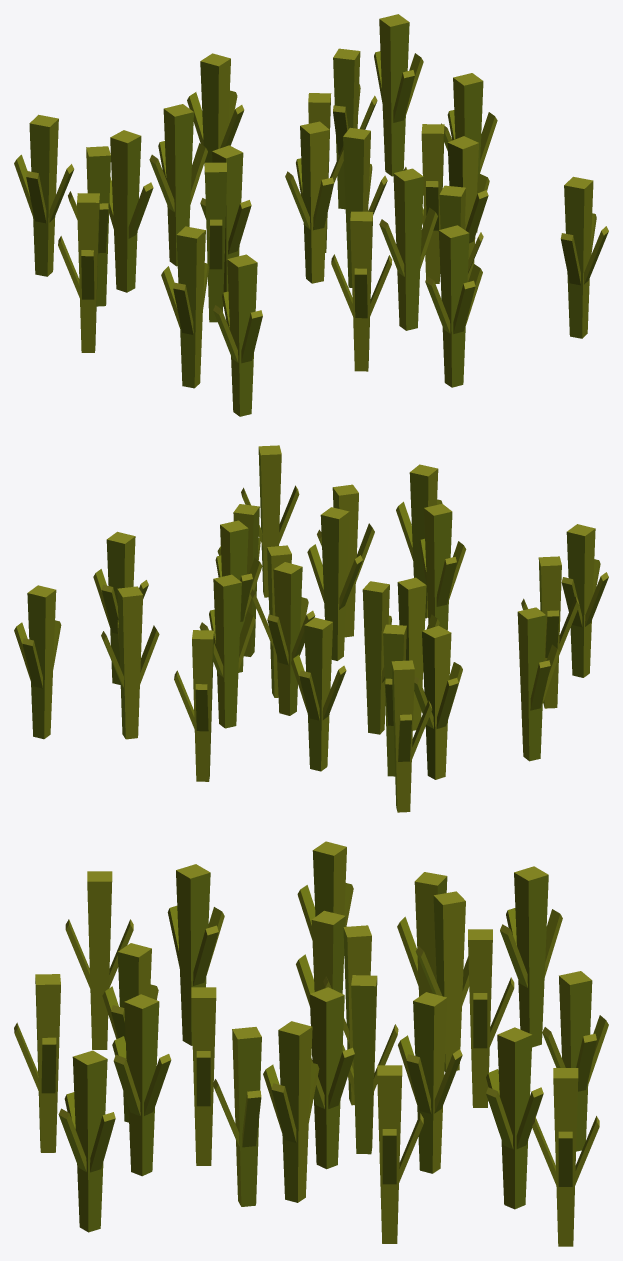
File: Crops_Corn.gltf
The picture shows the model from 3 angles, top to bottom: view 1: azimuth 30°, elevation 25°; view 2: azimuth 150°, elevation 25°; view 3: azimuth 270°, elevation 25°; orthographic projection. The views are drawn at different scales.
Visible parts, largest first — view 1: SF_Prop_Crops_Corn_01; view 2: SF_Prop_Crops_Corn_01; view 3: SF_Prop_Crops_Corn_01.
Part boxes in pixels (left/top/right/bottom): SF_Prop_Crops_Corn_01: left=14, top=14, right=608, bottom=416; SF_Prop_Crops_Corn_01: left=14, top=445, right=608, bottom=812; SF_Prop_Crops_Corn_01: left=14, top=841, right=608, bottom=1246.
Size of the model in its own units: 0.0964 by 0.0303 by 0.0959.
Materials: 1 (1 with a texture image).
